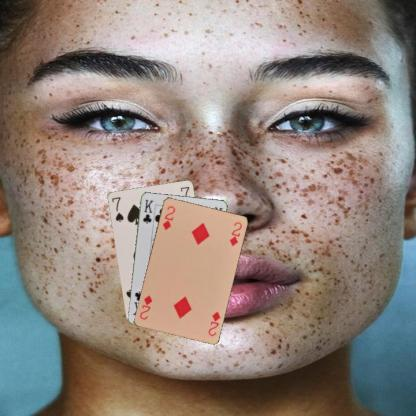2d: (160, 203, 176, 231), (206, 308, 221, 337)
7s: (109, 194, 125, 223)
Kc: (140, 197, 154, 225)
